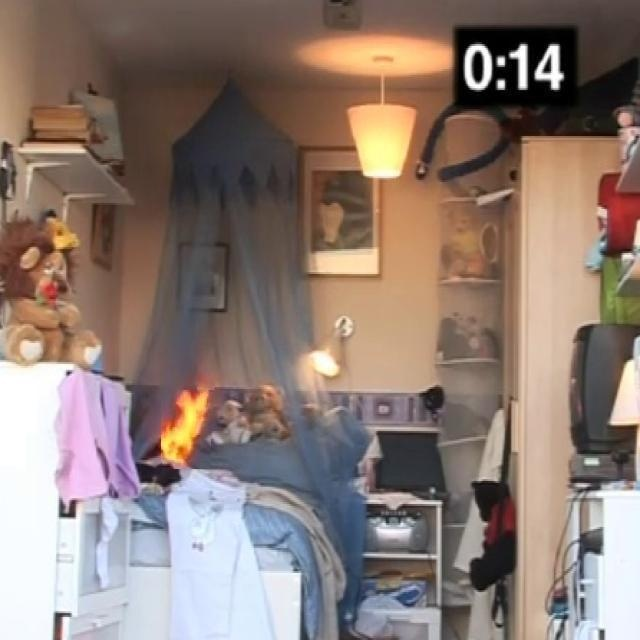fire: (137, 377, 244, 475)
